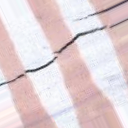crackTip: (1, 1, 128, 88)
